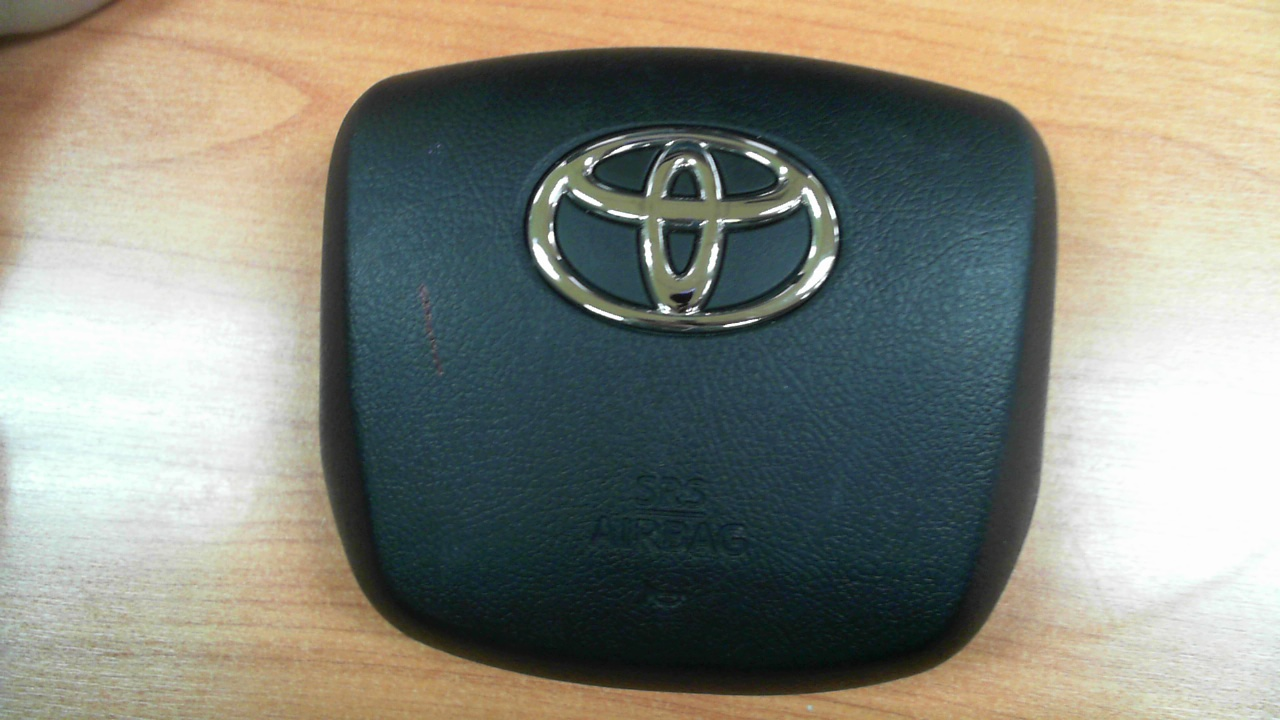Airbag: (318, 46, 1059, 697)
Toyota: (527, 127, 841, 333)
